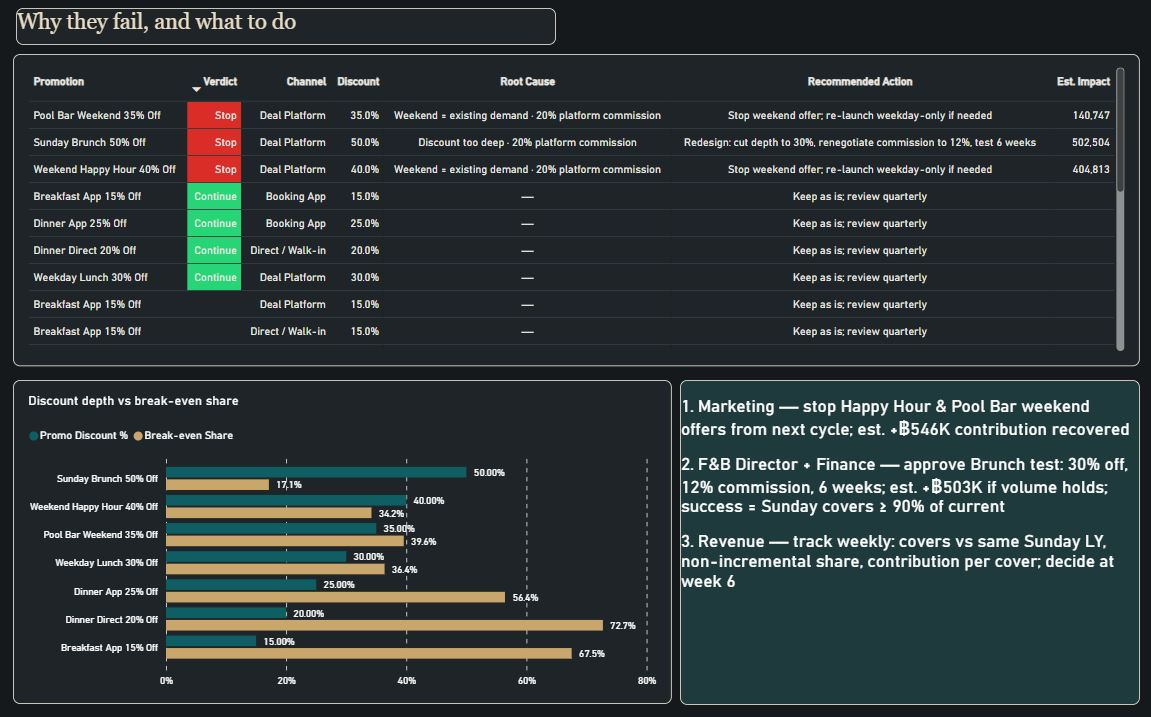

What the dashboard file says about the page in this screenshot:
{"tool":"powerbi","page":{"name":"Diagnosis & Action Plan","canvas":[1300,980],"ordinal":2},"visuals":[{"type":"textbox","box":[24,24,600,41],"z":0},{"type":"tableEx","fields":{"Values":["DimPromo.PromoName","Promo decision.Promo Verdict","vw_promo_uplift.ChannelName","Sum(DimPromo.DiscountPct)","_Measures.Root Cause","_Measures.Recommended Action","_Measures.Est. Impact"]},"box":[20.6,75,1252.2,347.2],"z":1000},{"type":"clusteredBarChart","title":"Discount depth vs break-even share","fields":{"Category":["DimPromo.PromoName"],"Y":["Promo decision.Promo Discount %","Promo decision.Break-even Share"]},"box":[20.6,438,732,360],"z":2000},{"type":"textbox","box":[762.2,438,510.6,360.5],"z":2001}]}

Visuals, with their boxes on the page's 1300x980 design canvas (x1, y1, x2, y2). These are canvas units, not pixel positions in the 1151x717 screenshot, which may show the page scaled, cropped or inside an application window:
textbox: (24, 24, 624, 65)
tableEx - DimPromo.PromoName x Promo decision.Promo Verdict: (21, 75, 1273, 422)
"Discount depth vs break-even share" clusteredBarChart: (21, 438, 753, 798)
textbox: (762, 438, 1273, 798)
